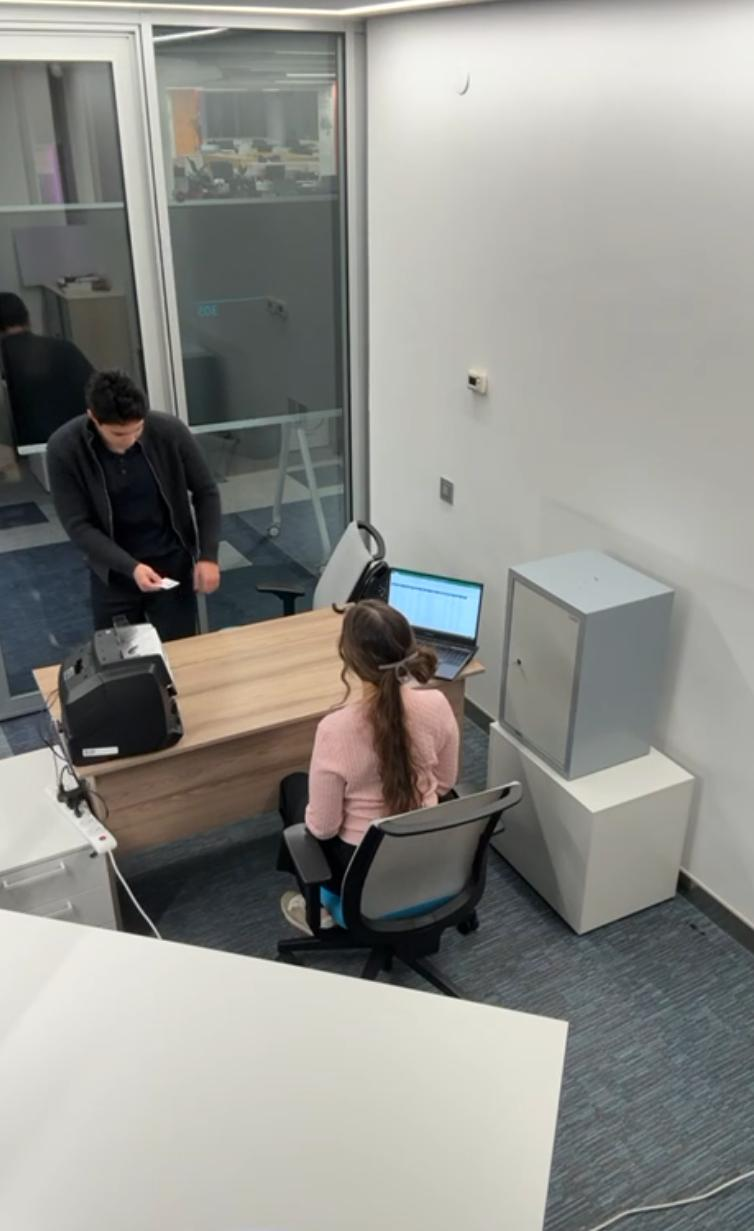counter: (56, 620, 185, 766)
document: (155, 576, 181, 592)
key_in: (505, 656, 534, 686)
screen_on: (386, 568, 482, 647)
